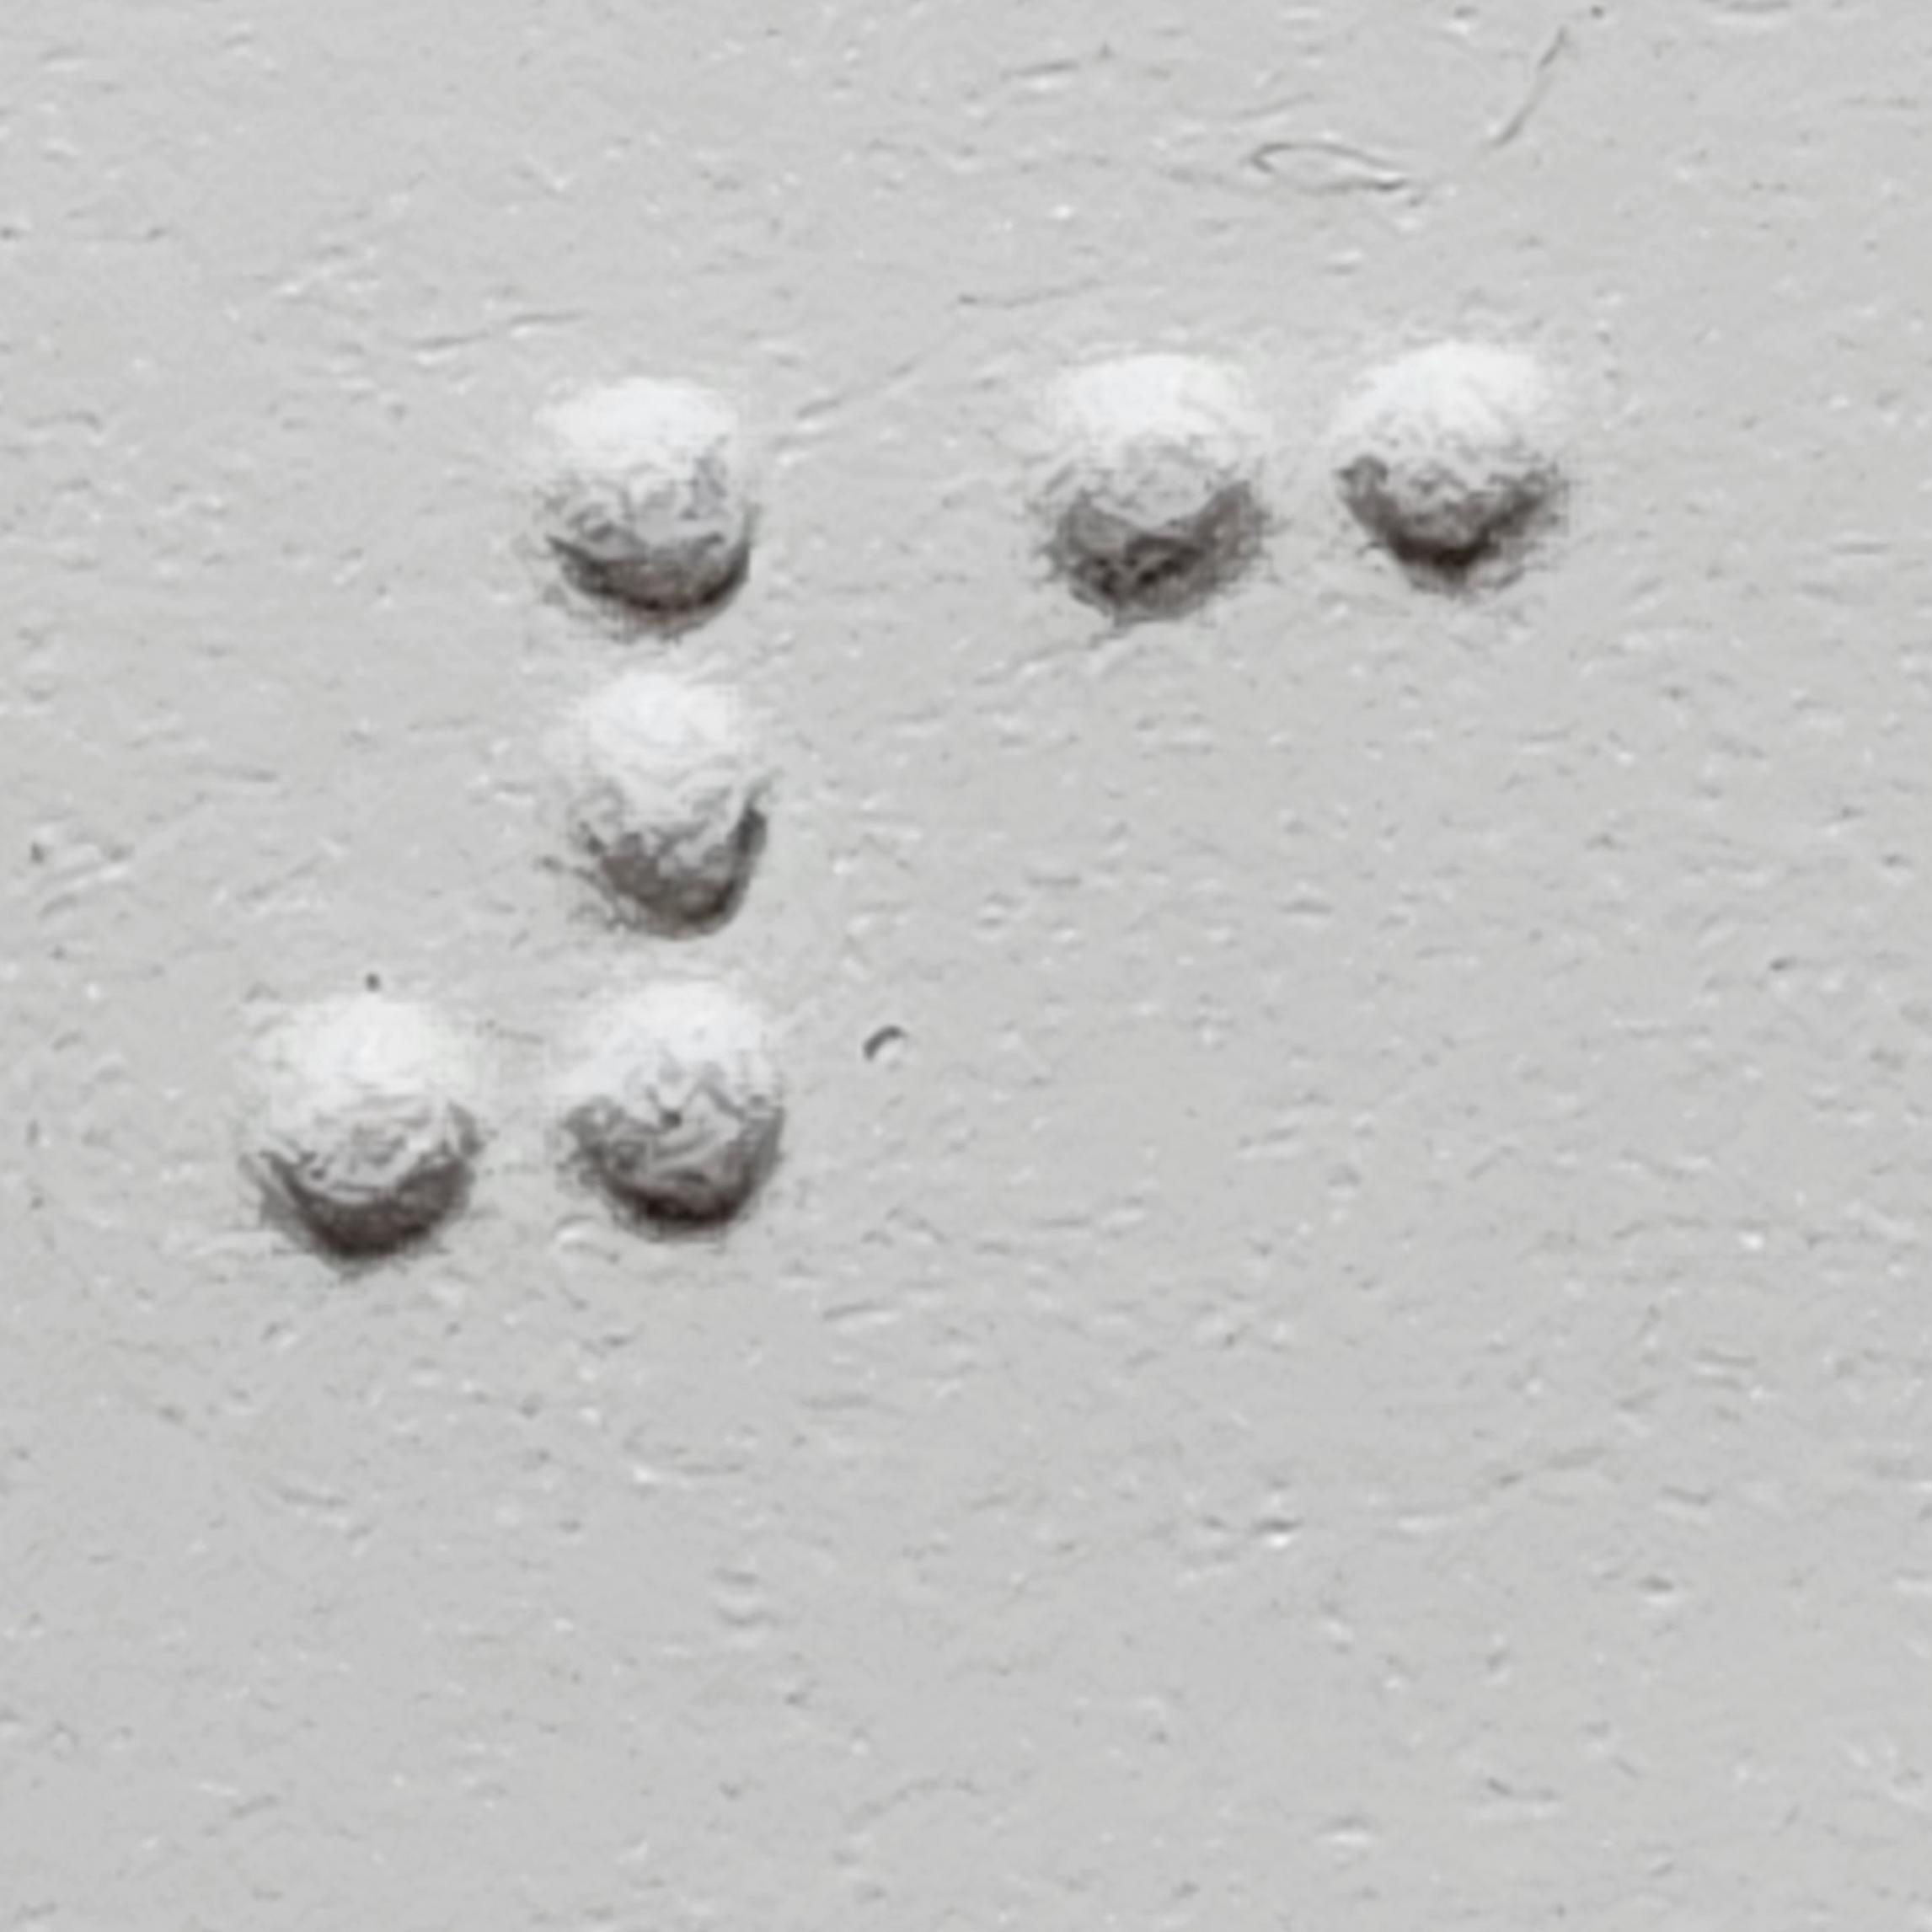digit_3: (1023, 343, 1582, 1230)
number_sign: (237, 363, 796, 1251)
